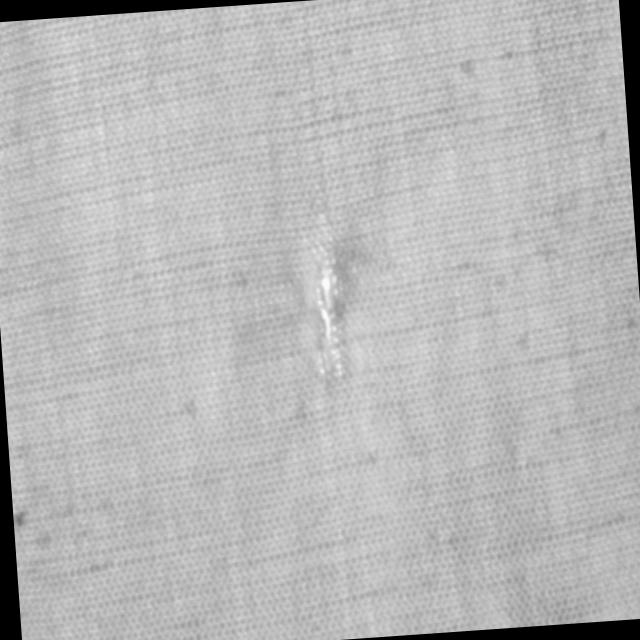hole: (303, 206, 351, 383)
